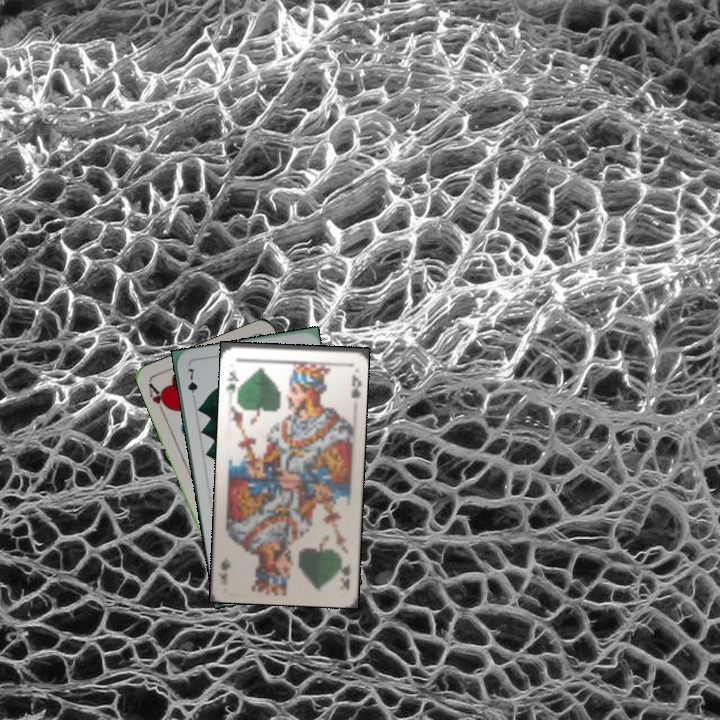G7: (183, 364, 200, 404)
GK: (335, 560, 353, 591), (222, 368, 241, 396)
HA: (144, 379, 172, 417)
